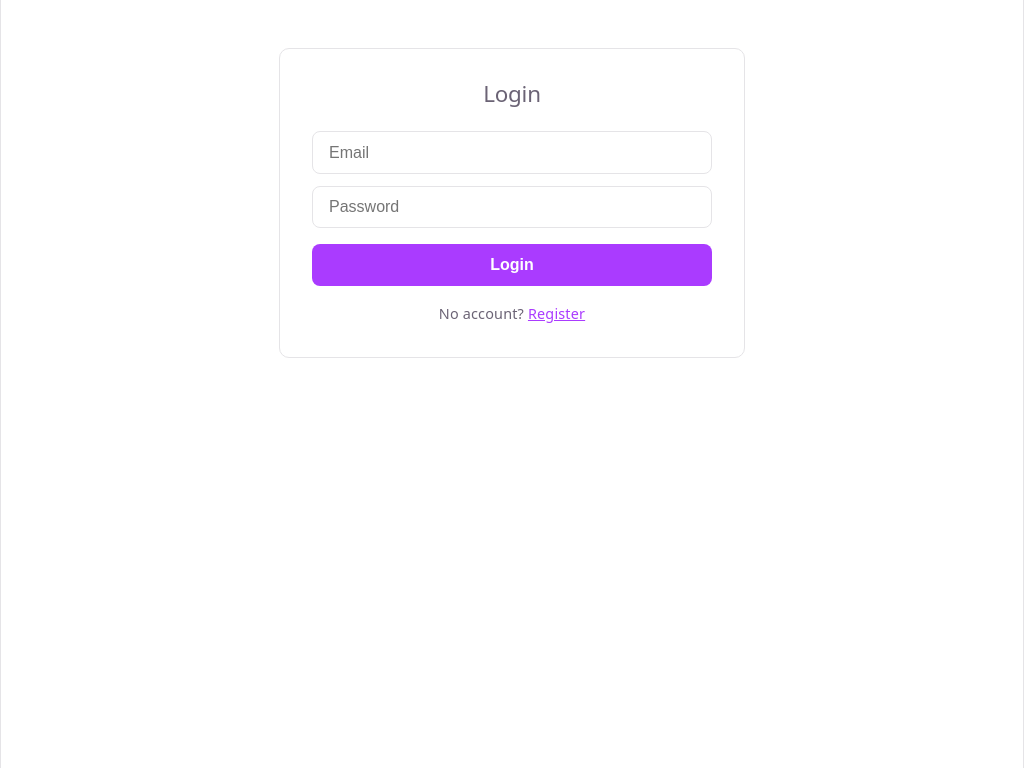
LoginPage › shows error when credencials are incorrect
Step 1. Type "wrong@test.com" into the field with placeholder "Email" → (512, 153), box x1=312 y1=131 x2=712 y2=174
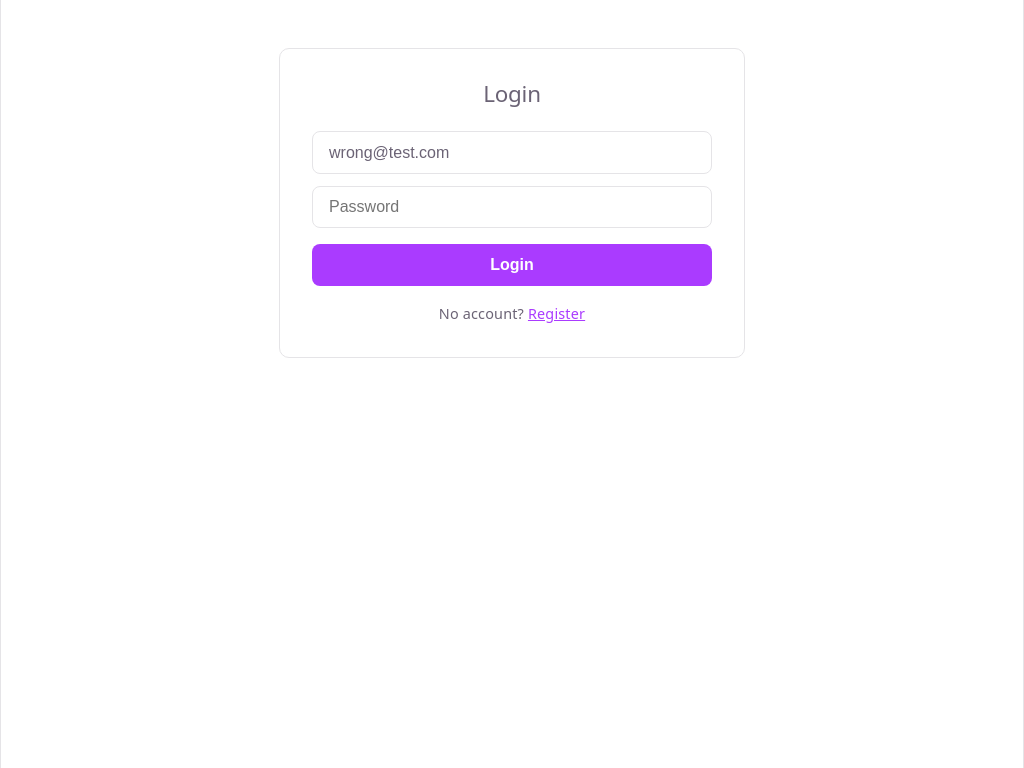
Step 2. Type "wrongpass" into the password field with placeholder "Password" → (512, 207), box x1=312 y1=186 x2=712 y2=228
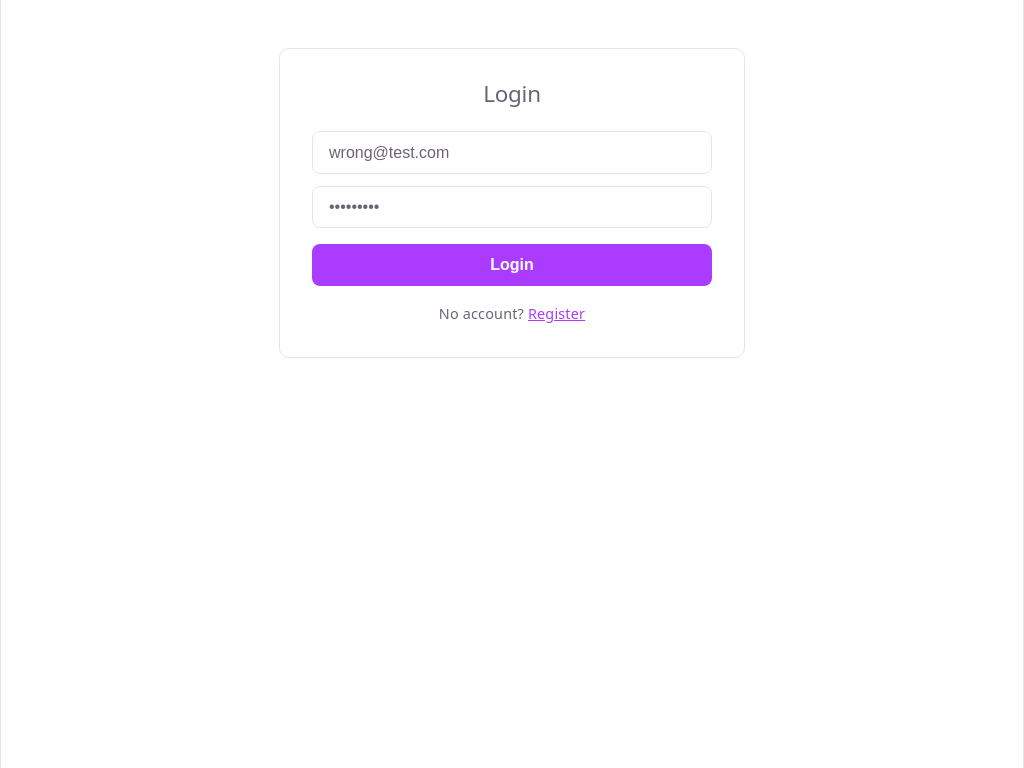
Step 3. Click the button "Login" → (512, 265), box x1=312 y1=244 x2=712 y2=286
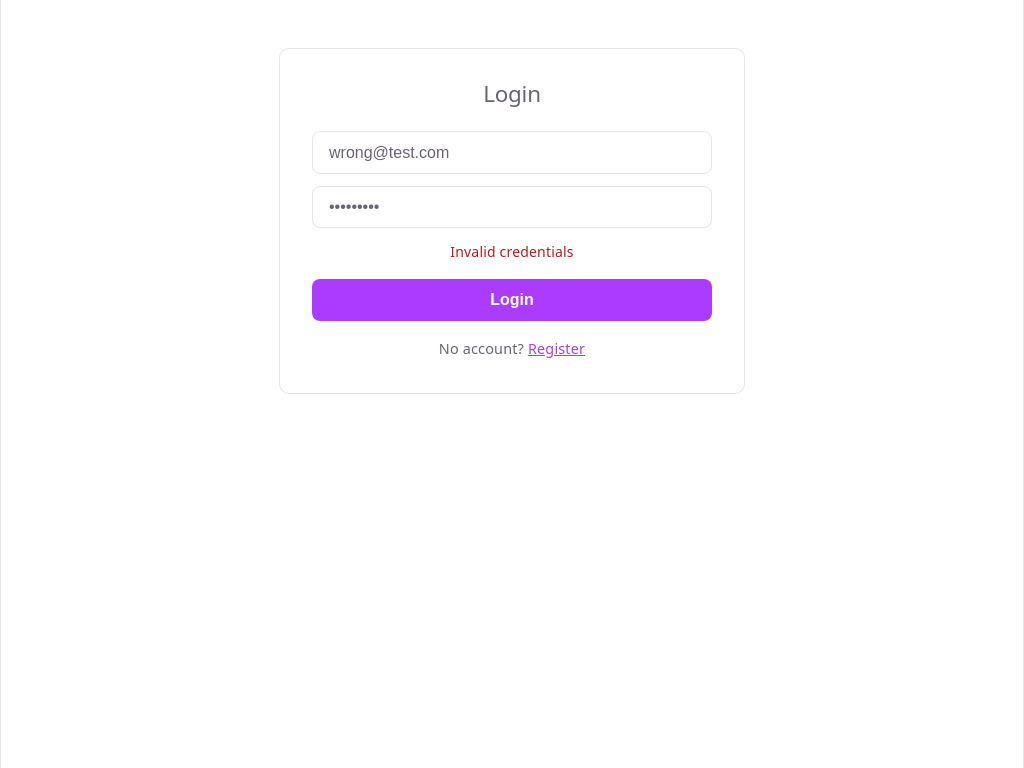
Now the text "Invalid credentials" is shown, box x1=450 y1=242 x2=574 y2=261
